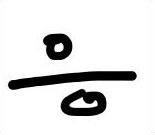div: (7, 34, 136, 114)
